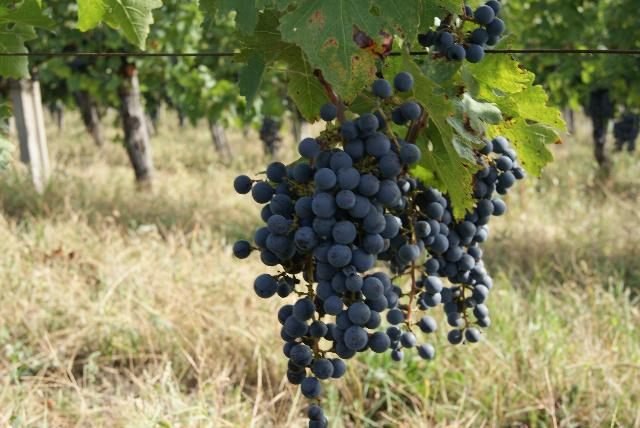grapes: (294, 74, 426, 359), (235, 162, 345, 428), (429, 136, 526, 344), (418, 0, 505, 64)
